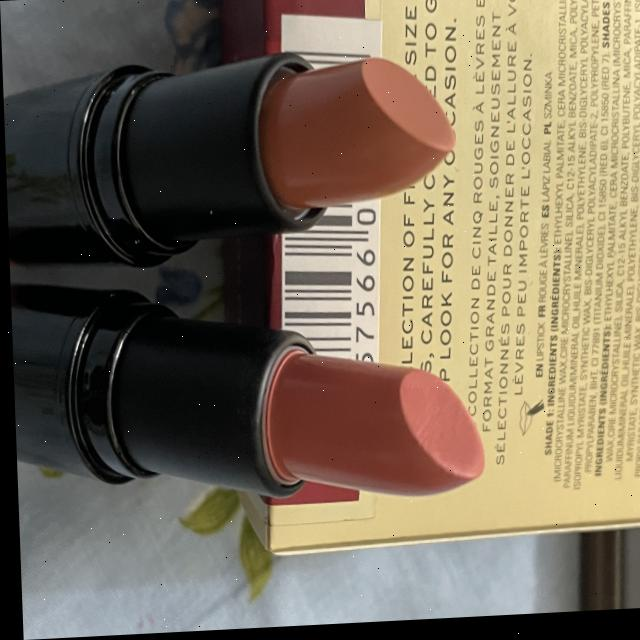lip stick: (1, 9, 473, 296), (9, 274, 493, 530)
